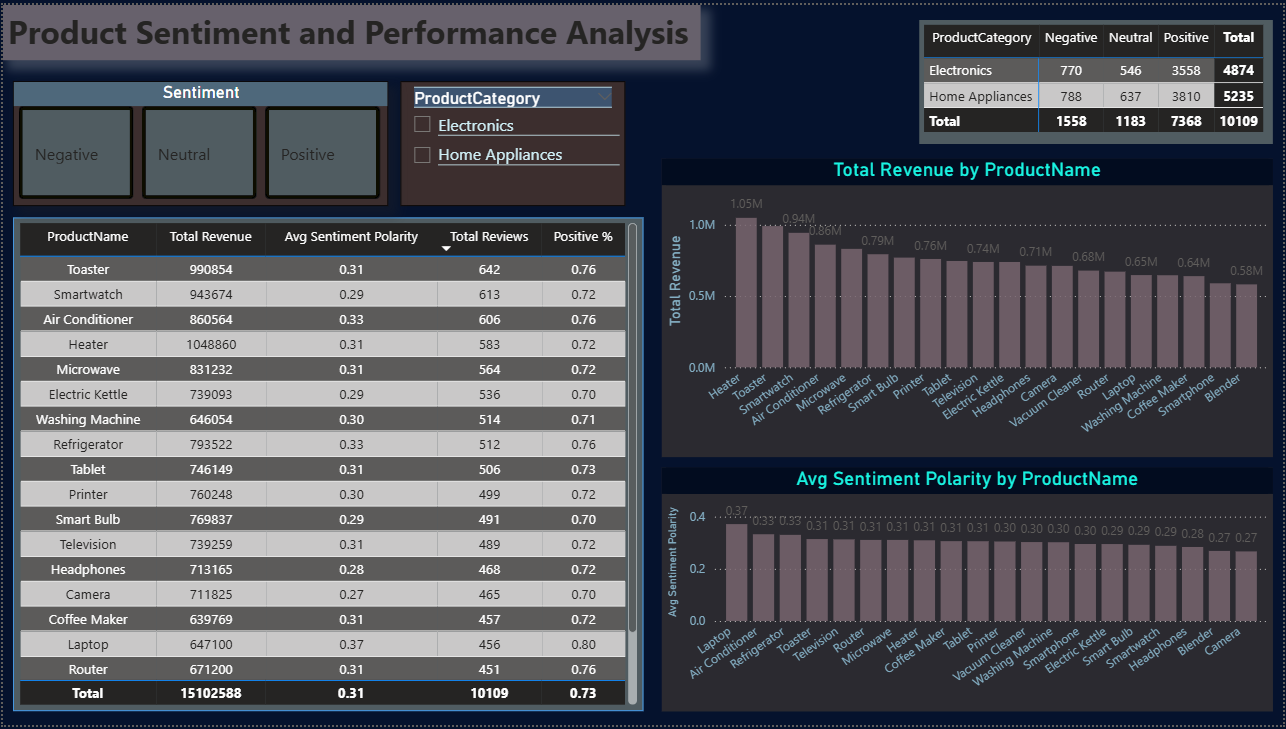

This screenshot's page, from the dashboard's own definition file:
{"tool":"powerbi","page":{"name":"Page 2","canvas":[1280,720],"ordinal":2},"visuals":[{"type":"textbox","box":[0,0,697.5,55],"z":0},{"type":"tableEx","fields":{"Values":["merged_customer_sentiment_sales.ProductName","merged_customer_sentiment_sales.Total Revenue","merged_customer_sentiment_sales.Avg Sentiment Polarity","merged_customer_sentiment_sales.Total Reviews","merged_customer_sentiment_sales.Positive %"]},"box":[10,212.5,630,493.8],"z":1000},{"type":"columnChart","fields":{"Category":["merged_customer_sentiment_sales.ProductName"],"Y":["merged_customer_sentiment_sales.Total Revenue"]},"box":[658.8,153.8,611.2,298.8],"z":2000},{"type":"columnChart","fields":{"Category":["merged_customer_sentiment_sales.ProductName"],"Y":["merged_customer_sentiment_sales.Avg Sentiment Polarity"]},"box":[658.8,462.5,611.2,243.8],"z":3000},{"type":"pivotTable","fields":{"Rows":["merged_customer_sentiment_sales.ProductCategory"],"Columns":["merged_customer_sentiment_sales.Sentiment"],"Values":["merged_customer_sentiment_sales.Total Reviews"]},"box":[916.2,15,353.8,123.8],"z":4000},{"type":"slicer","fields":{"Values":["merged_customer_sentiment_sales.ProductCategory"]},"box":[397.5,76.2,225,125],"z":5000},{"type":"advancedSlicerVisual","fields":{"Values":["merged_customer_sentiment_sales.Sentiment"]},"box":[10,76.2,375,125],"z":6000}]}

Visuals, with their boxes in screenshot pixels (x1, y1, x2, y2), scaled from the page's 1280x720 canvas onto the 1286x729 screenshot:
textbox: [0,0,701,56]
tableEx - merged_customer_sentiment_sales.ProductName x merged_customer_sentiment_sales.Total Revenue: [10,215,643,715]
columnChart - merged_customer_sentiment_sales.ProductName x merged_customer_sentiment_sales.Total Revenue: [662,156,1276,458]
columnChart - merged_customer_sentiment_sales.ProductName x merged_customer_sentiment_sales.Avg Sentiment Polarity: [662,468,1276,715]
pivotTable - merged_customer_sentiment_sales.ProductCategory x merged_customer_sentiment_sales.Sentiment: [920,15,1276,141]
slicer - merged_customer_sentiment_sales.ProductCategory: [399,77,625,204]
advancedSlicerVisual - merged_customer_sentiment_sales.Sentiment: [10,77,387,204]
